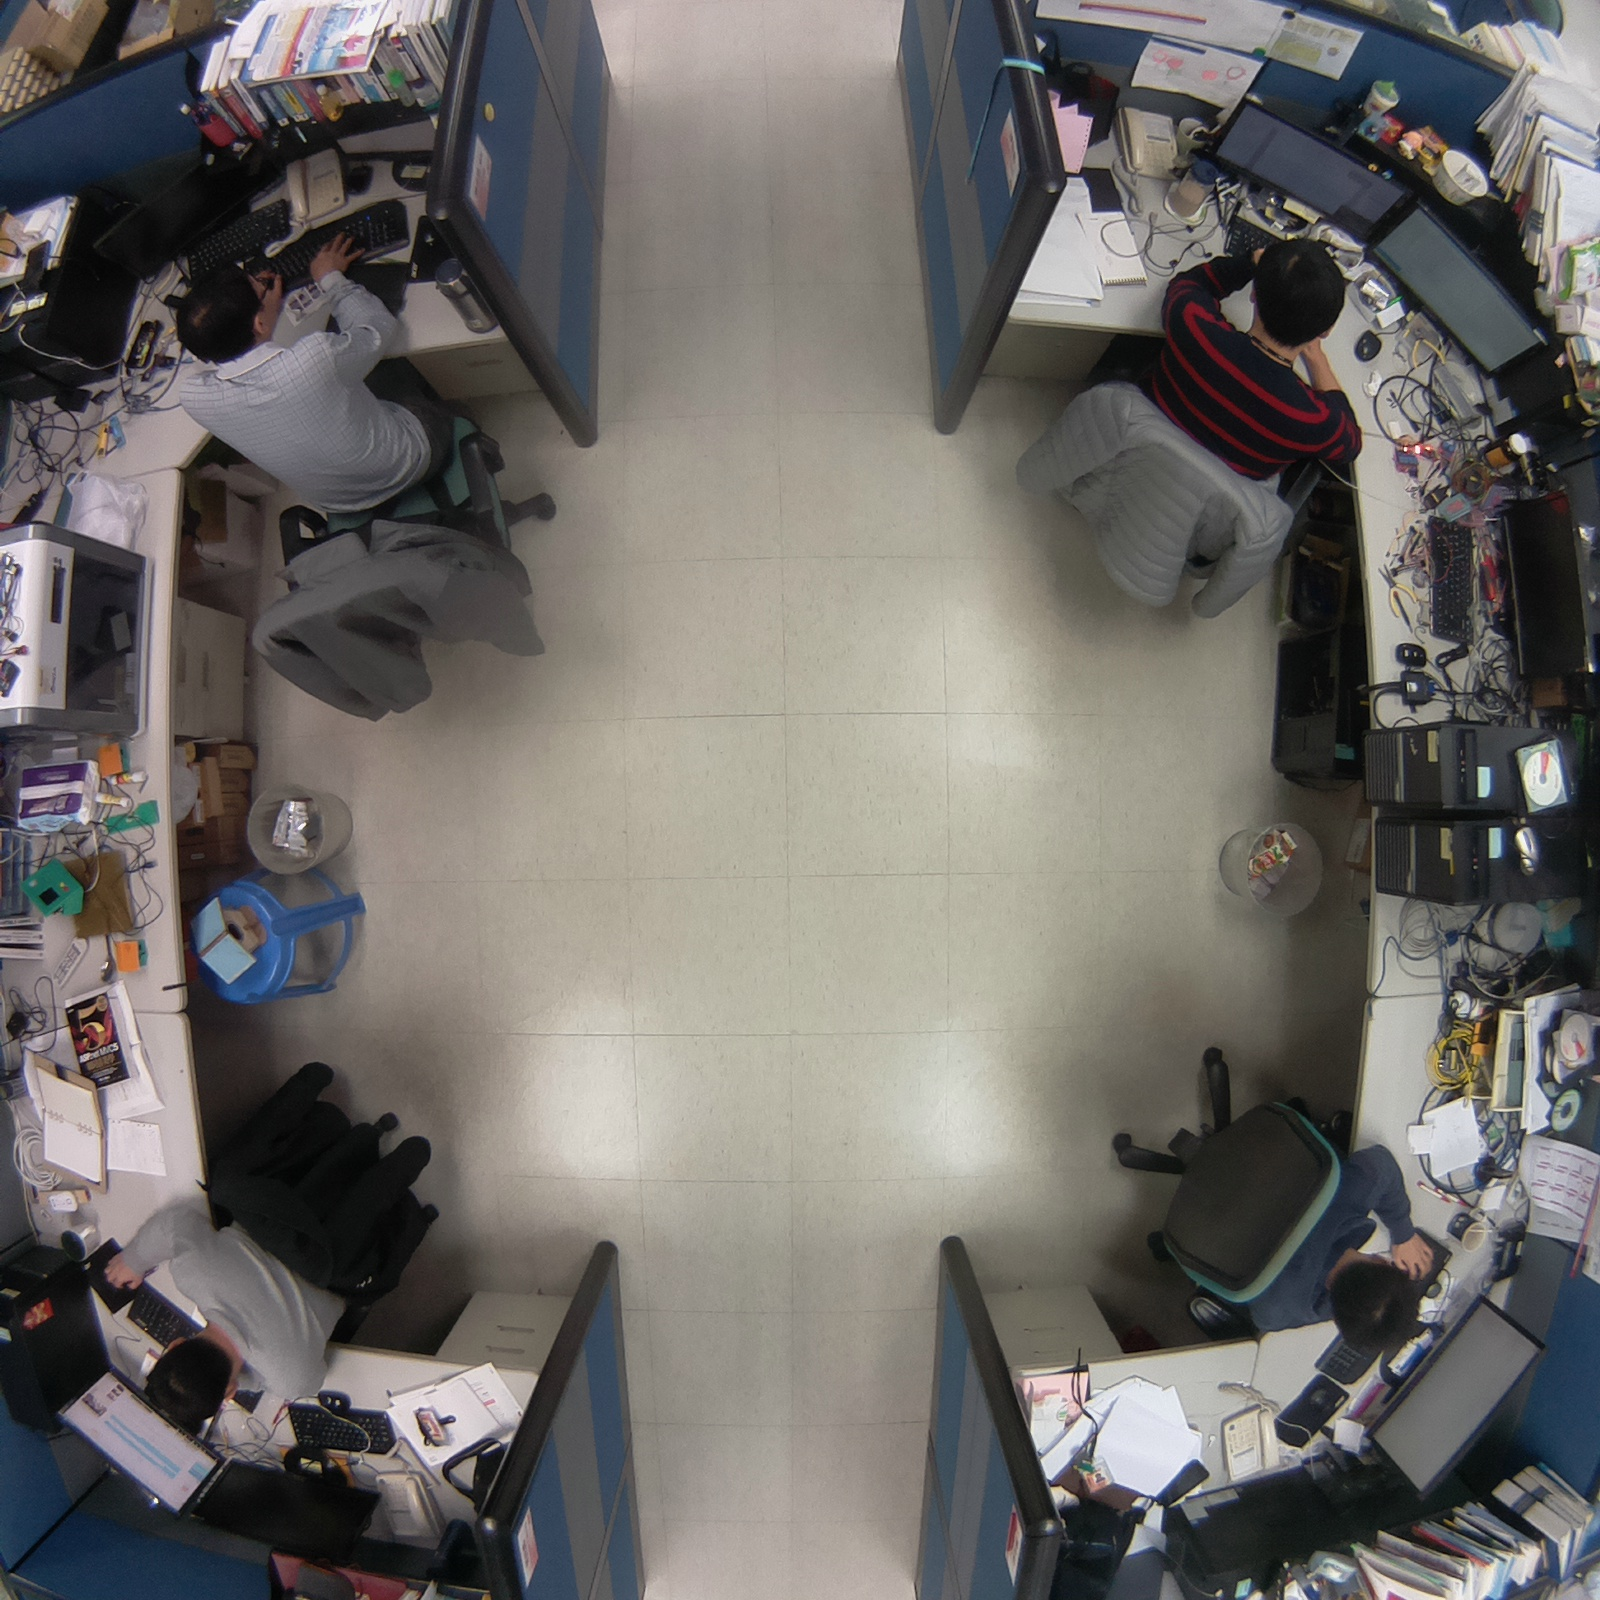head: (1323, 1246, 1436, 1363), (170, 263, 287, 372), (132, 1323, 242, 1438), (1246, 234, 1353, 351)
sitting: (153, 232, 578, 737), (1004, 234, 1370, 640), (101, 1032, 465, 1437), (1099, 1017, 1447, 1375)
